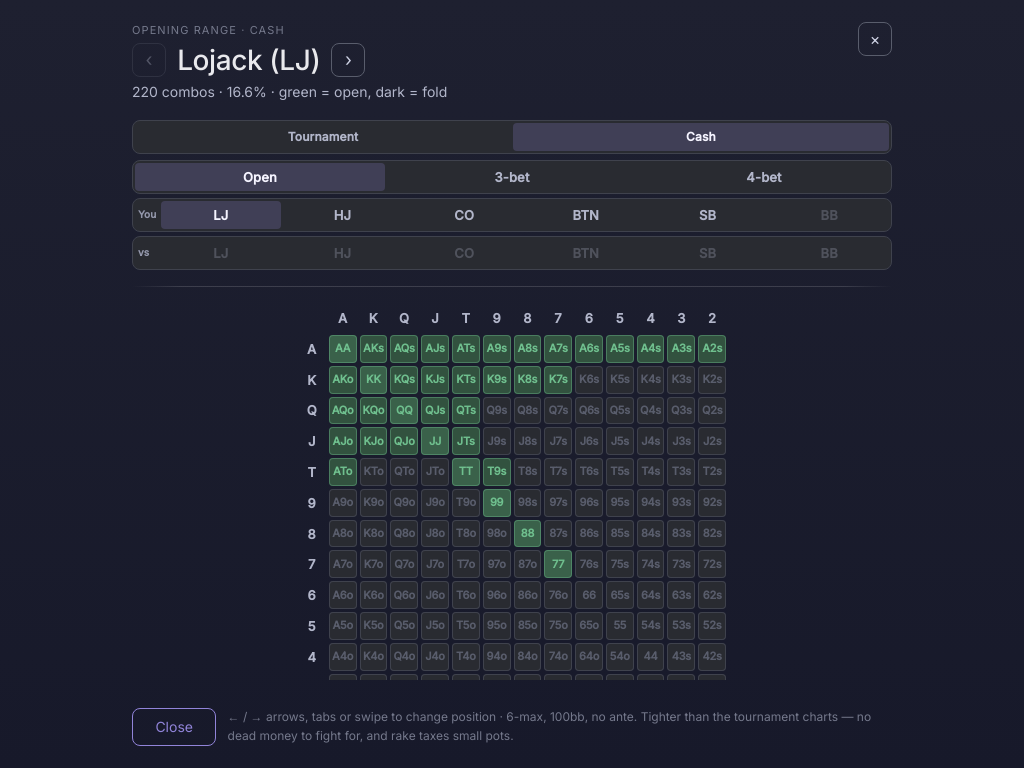
Test: ChartBrowser slice › picks spot, seat and raiser in one stroke, passing over greyed tabs
Press the mouse on the element with test id "slice-rows": (512, 214) [132,160,892,270]
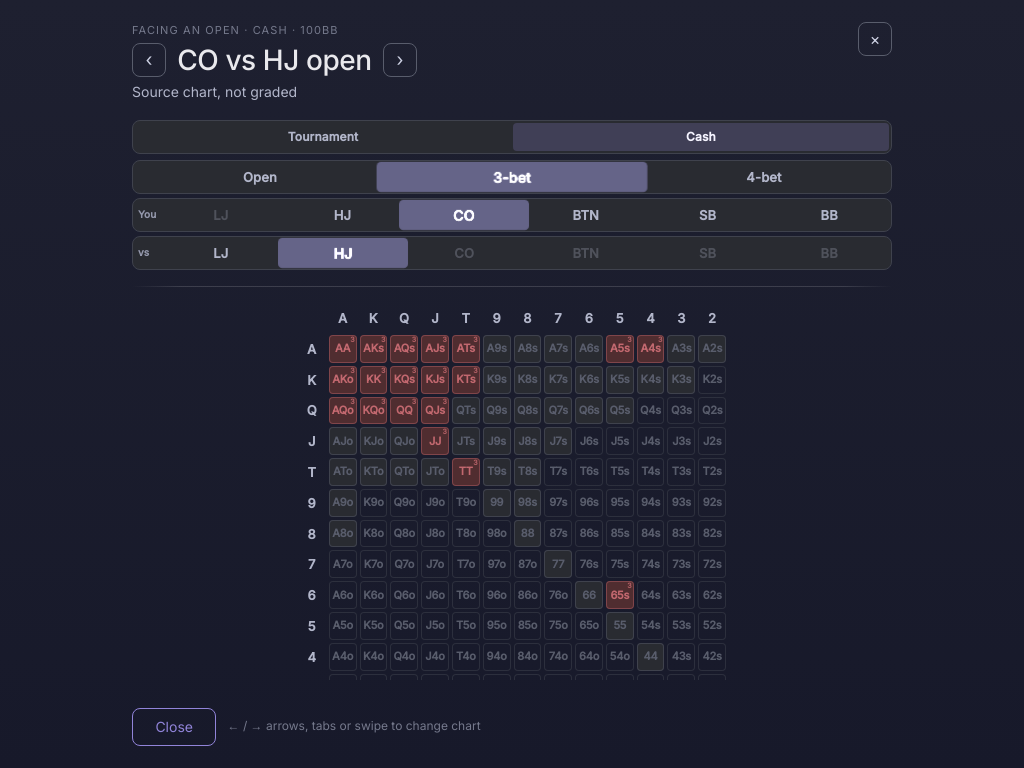
Expected: the heading reads "CO vs HJ open", [177,43,372,77]
Press the mouse on the element with test id "slice-rows": (512, 214) [132,160,892,270]
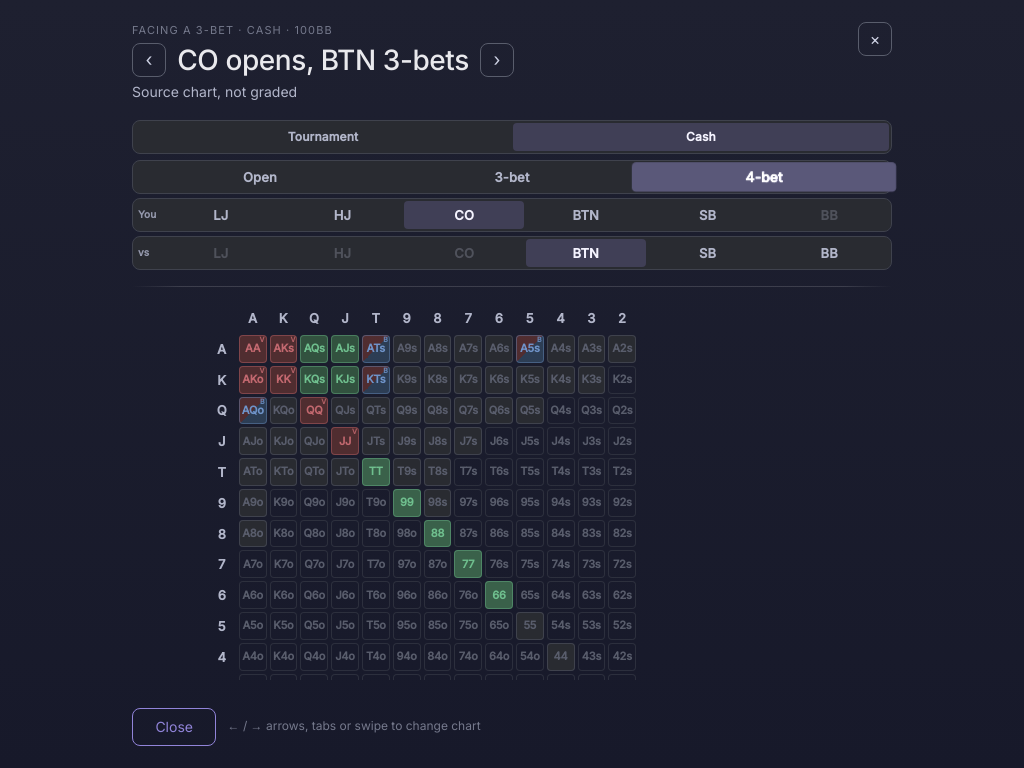
Expected: the heading reads "CO opens, BTN 3-bets", [177,43,469,77]
